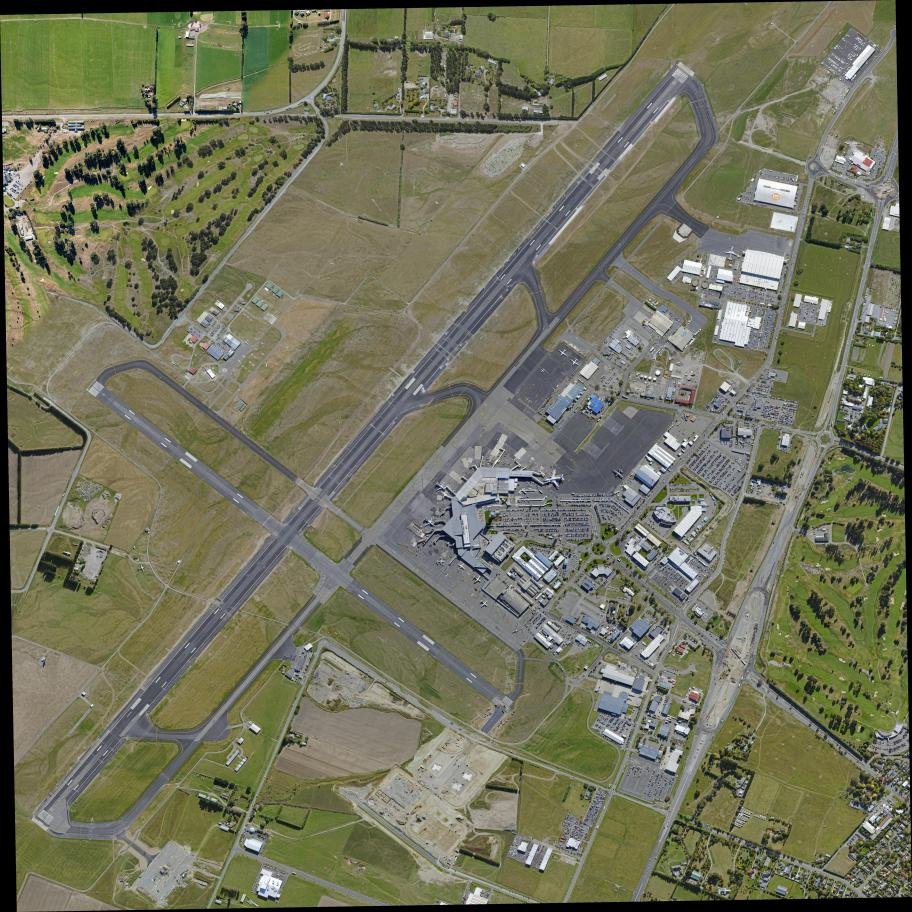large-vehicle: (844, 142, 849, 144)
plane: (544, 468, 566, 490), (723, 244, 740, 262), (421, 514, 438, 531), (433, 478, 449, 494), (611, 465, 627, 481), (568, 355, 581, 369), (478, 597, 491, 610), (471, 573, 484, 585), (557, 347, 570, 359), (456, 561, 467, 572), (137, 563, 147, 573), (437, 557, 446, 566), (62, 549, 72, 556), (243, 339, 251, 346), (513, 628, 519, 635), (540, 367, 546, 374), (270, 313, 276, 319), (247, 720, 253, 726), (237, 359, 242, 364), (266, 313, 271, 317), (260, 299, 265, 303), (251, 363, 255, 368), (248, 360, 252, 365), (264, 363, 268, 368), (242, 313, 247, 317), (241, 355, 246, 359), (194, 353, 198, 358), (435, 201, 439, 205), (249, 318, 253, 322), (253, 356, 257, 360), (261, 352, 265, 356), (254, 348, 258, 352), (260, 342, 264, 346), (246, 316, 250, 320), (244, 366, 248, 370), (250, 353, 254, 356), (286, 346, 289, 350), (241, 364, 244, 368), (238, 333, 242, 336), (248, 370, 251, 373)
storage-tank: (842, 36, 867, 62), (834, 30, 855, 53), (825, 57, 845, 74), (830, 50, 850, 67), (762, 172, 794, 182), (702, 283, 708, 288), (692, 281, 698, 286), (656, 370, 661, 375), (653, 377, 657, 381), (648, 376, 652, 380), (145, 528, 149, 532), (250, 828, 254, 832), (644, 376, 647, 378), (641, 375, 643, 377), (638, 373, 640, 374), (636, 374, 638, 375)
